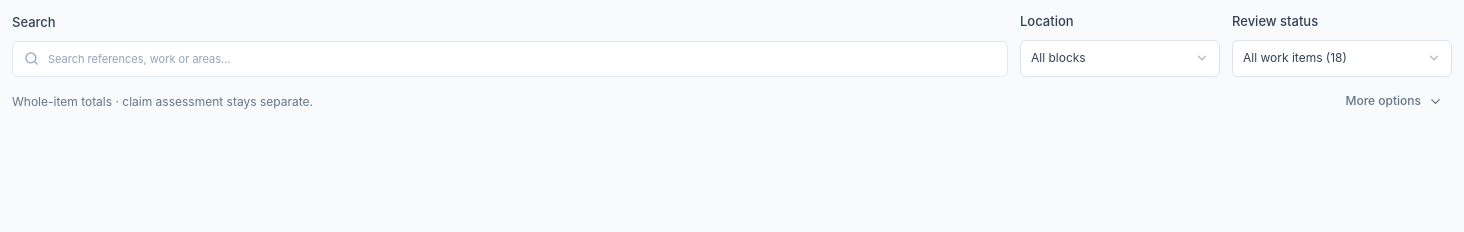
Scenario: simple Progress layout › uses visible filters, shows Clear all only for active filters and returns focus to search
The width and height of the screenshot is (1464, 232).
Expected: the text "Search" is shown, 12,14 -> 56,30
Expected: the text "Location" is shown, 1020,12 -> 1074,32
Click the dropdown named "Block / location". click: (1120, 58)
box: 1020,40 -> 1220,76
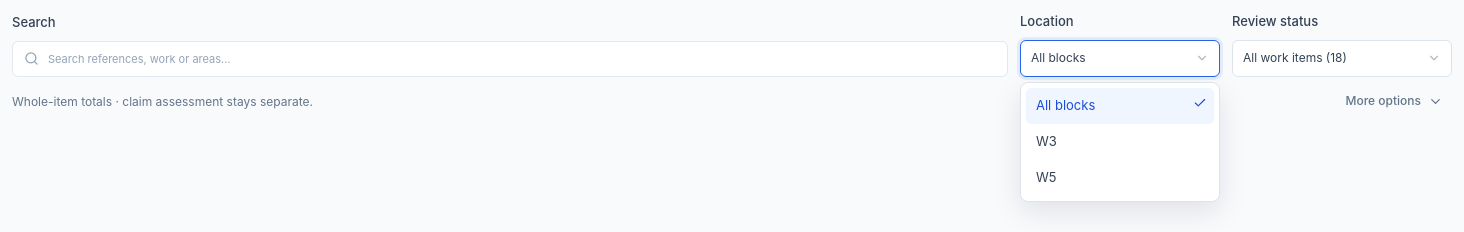
Click the option "W5". click: (1046, 177)
box: 1036,169 -> 1056,185
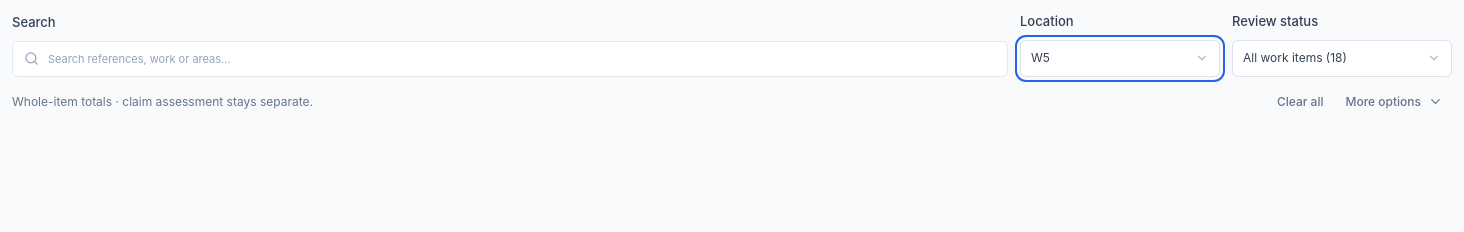
Expected: the button "Clear all" is shown, 1268,84 -> 1332,119
Type "Scaffold" into the field named "Search completion list". click: (522, 58)
box: 48,42 -> 996,76
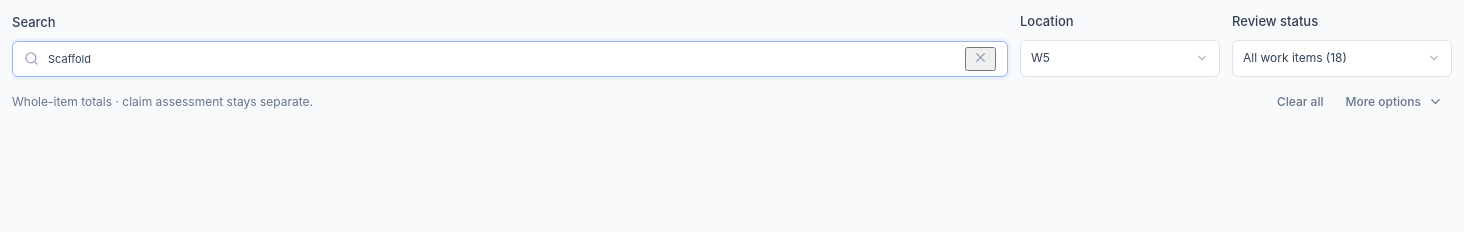
Click the button "Clear all". click: (1300, 102)
box: 1268,84 -> 1332,119
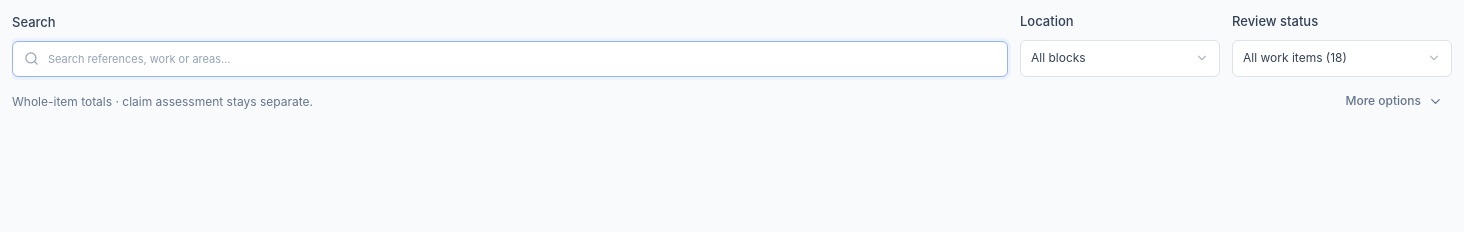
Expected: the field named "Search completion list" is empty, 48,42 -> 996,76
Expected: the button "Clear all" is gone
Expected: the dropdown named "Block / location" reads "All blocks", 1020,40 -> 1220,76
